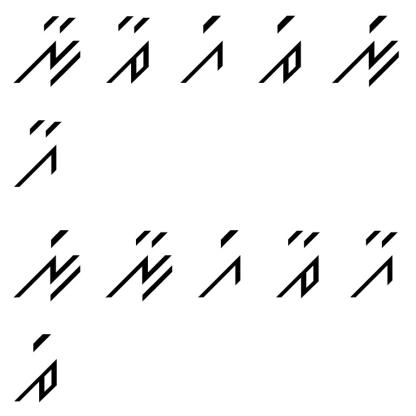gan: (15, 116, 66, 192), (348, 224, 399, 300)
gang: (191, 224, 243, 306), (178, 13, 233, 88)
ngan: (104, 226, 180, 303), (9, 11, 82, 89)
ngang: (326, 10, 401, 93), (9, 225, 82, 304)
tan: (274, 219, 330, 306), (105, 12, 156, 89)
tang: (258, 11, 308, 88), (14, 328, 64, 404)
